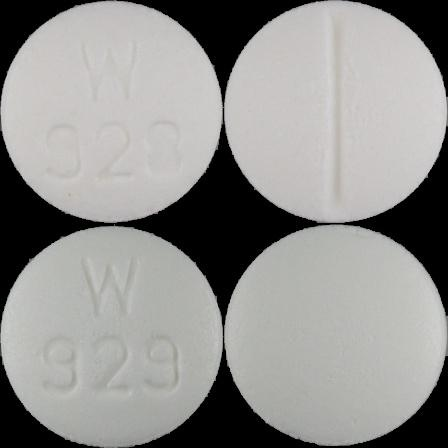64679-928: (0, 0, 224, 224)
